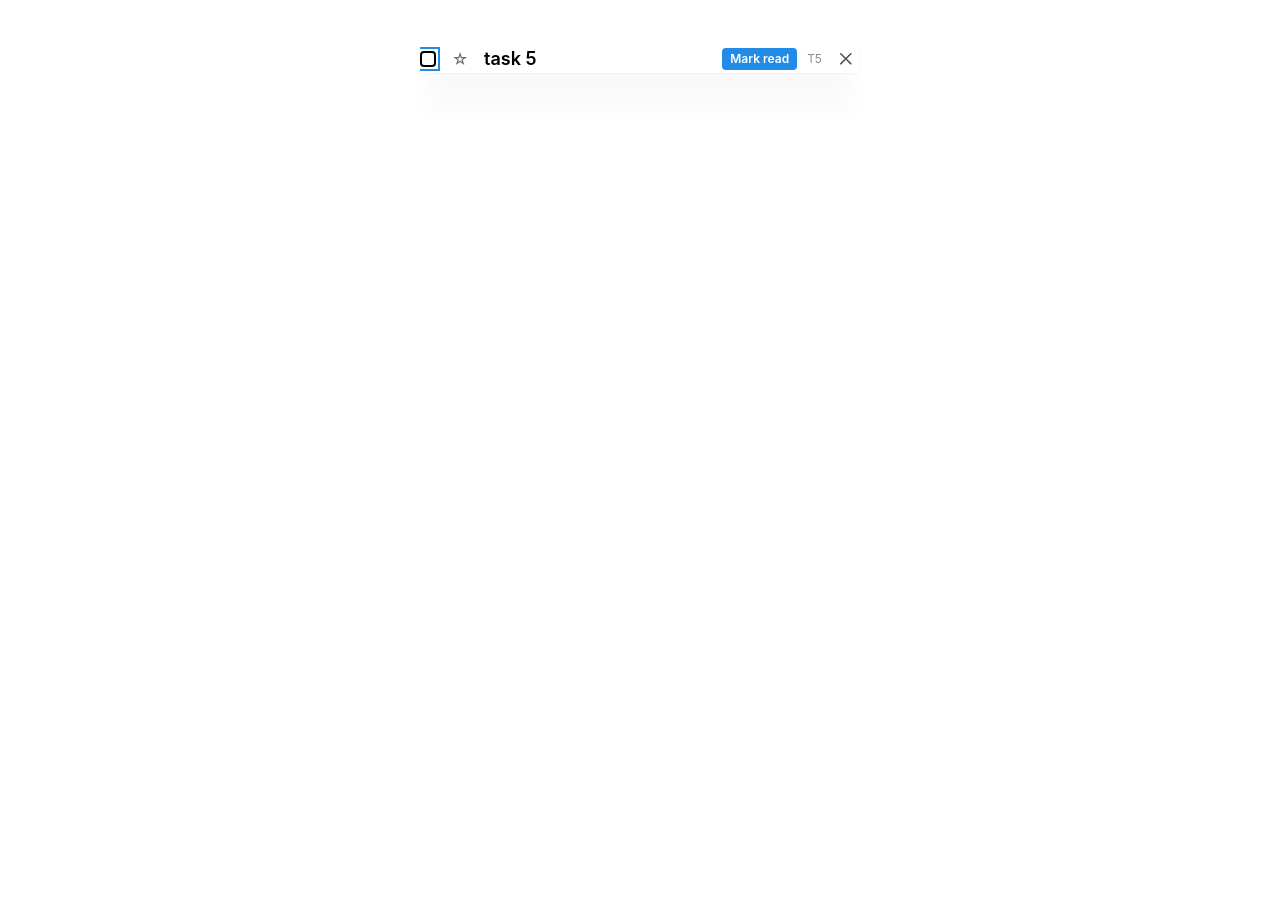
Test: TaskModalHeader Mark read › says Already read when the mark moves nothing
This screenshot has width=1280, height=900.
Click the button "Mark read". click: (760, 59)
box: [722,48,797,70]
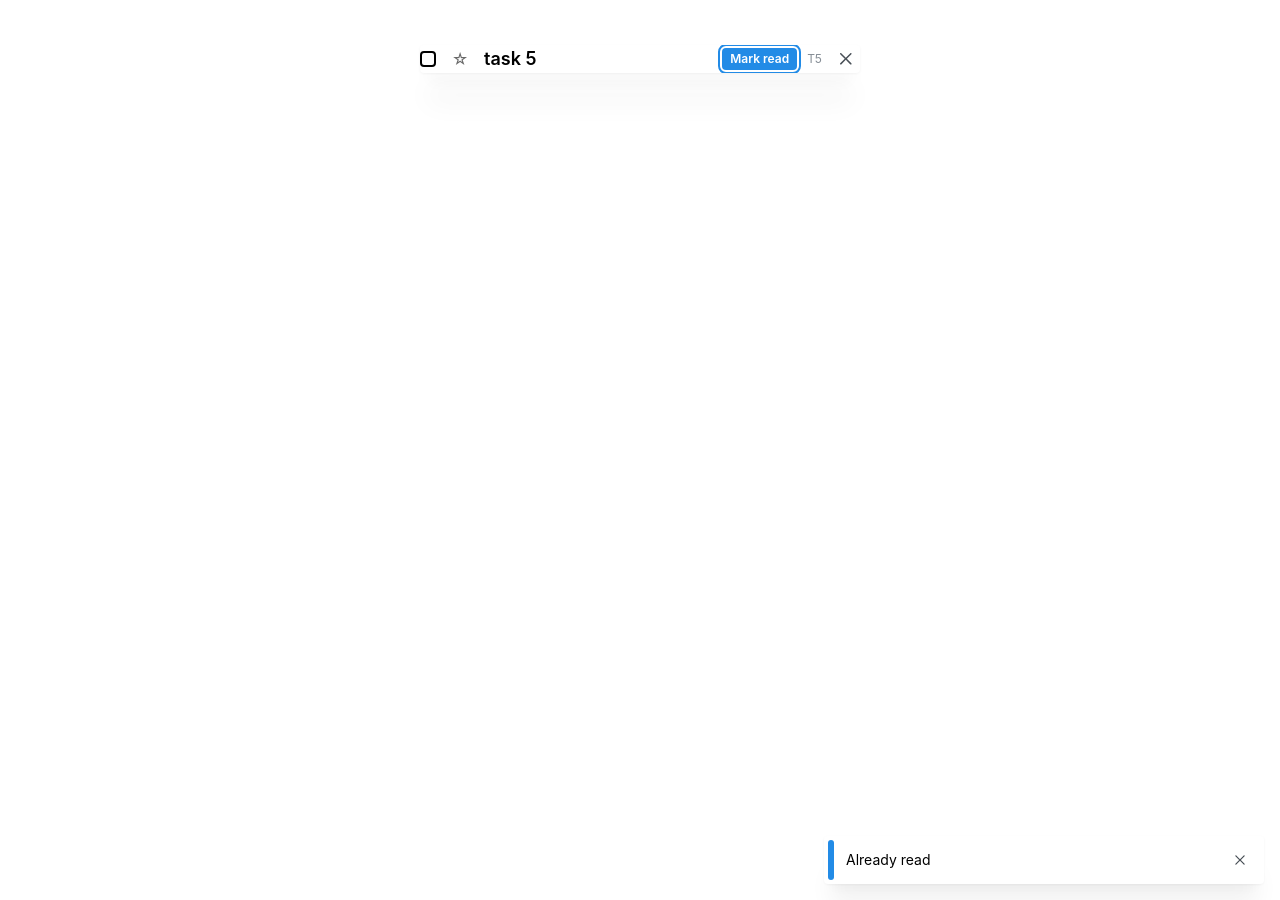
Expected: the text "Already read" is shown, [846,851,930,868]
